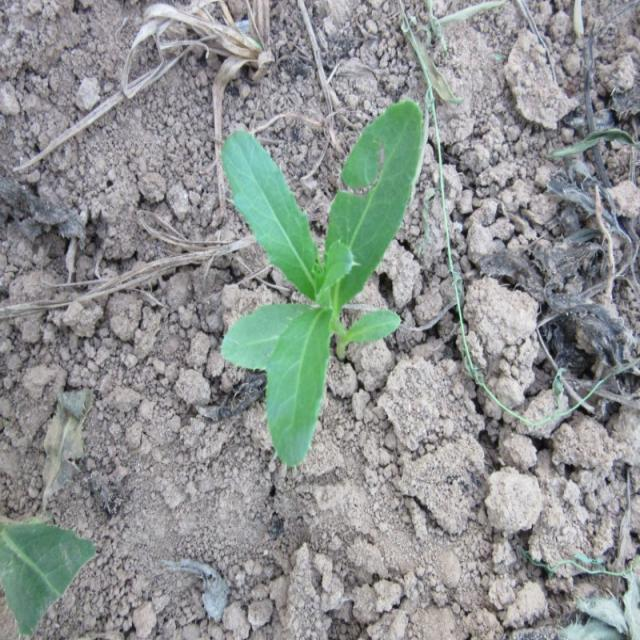cs: (216, 97, 428, 470)
